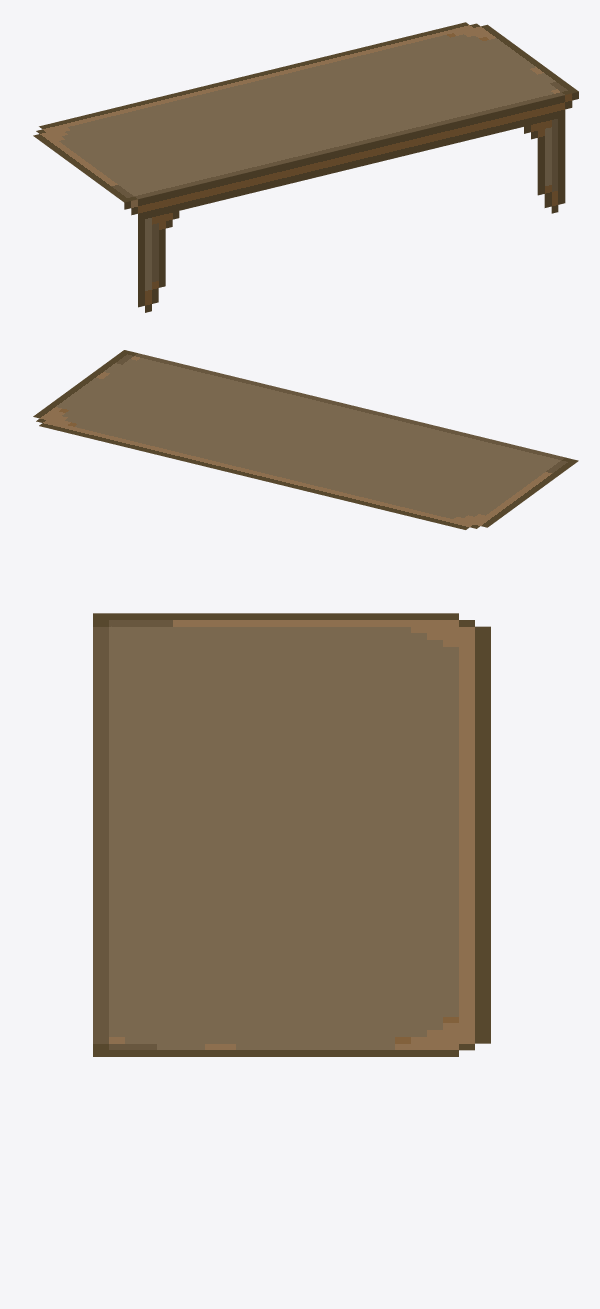
The model's file is table_long.gltf.
3 renders of one model, top to bottom at view 1: azimuth 30°, elevation 25°; view 2: azimuth 150°, elevation 25°; view 3: azimuth 270°, elevation 25°, orthographic. The views are drawn at different scales.
Visible parts, largest first — view 1: table_long-col; view 2: table_long-col; view 3: table_long-col.
Part boxes in pixels (x1,y1,x2,y2): table_long-col: (33,22,578,312); table_long-col: (33,350,578,529); table_long-col: (93,613,490,1056).
Size of the model in its own units: 4.25 by 1 by 1.63.
Materials: 1 (1 with a texture image).
